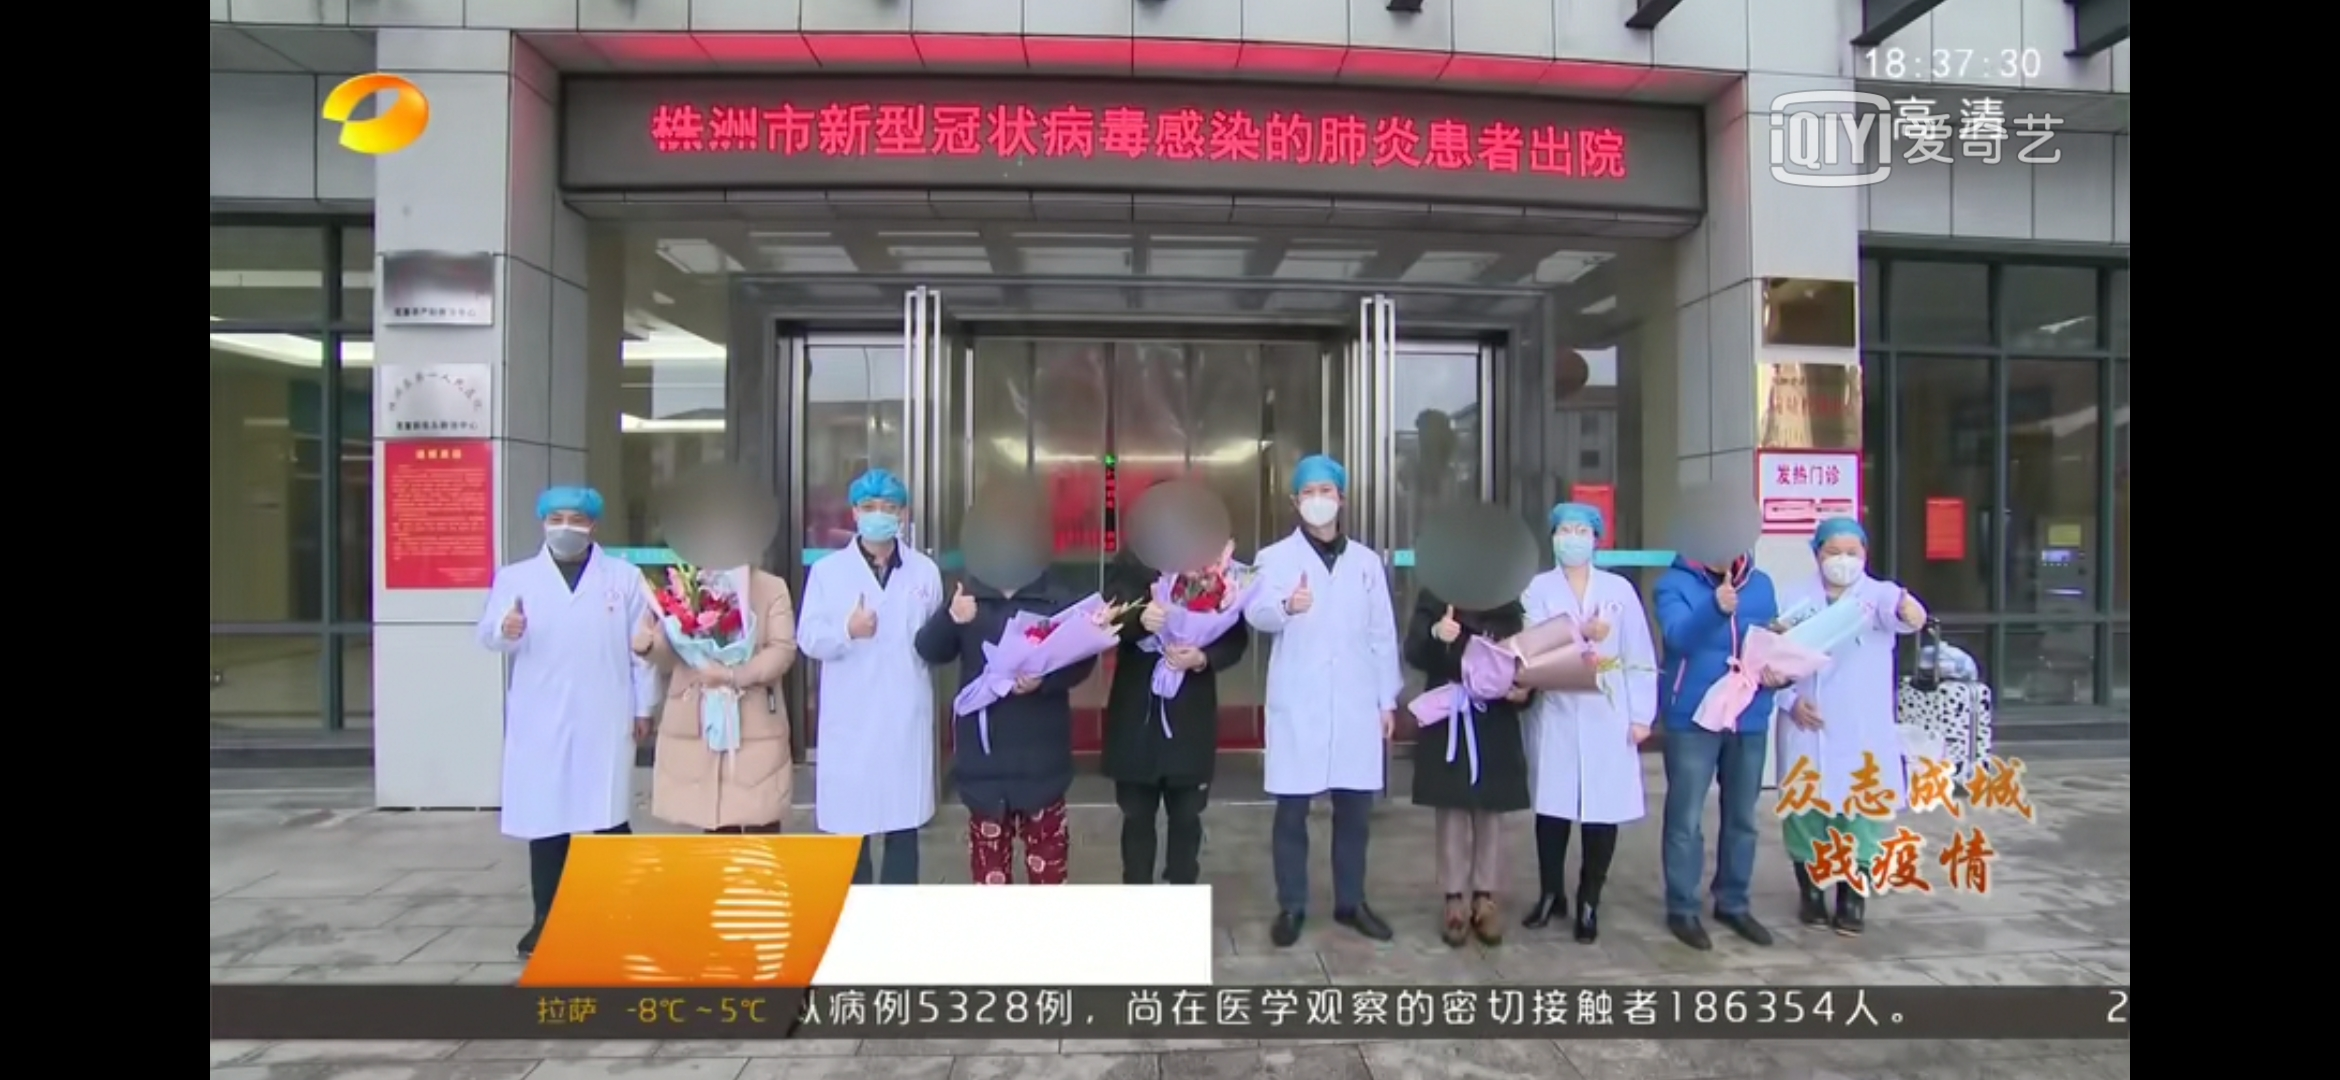correctlyWear: (1815, 527, 1868, 585), (851, 489, 904, 544), (1289, 474, 1345, 527), (545, 504, 592, 562), (1551, 515, 1597, 567)
